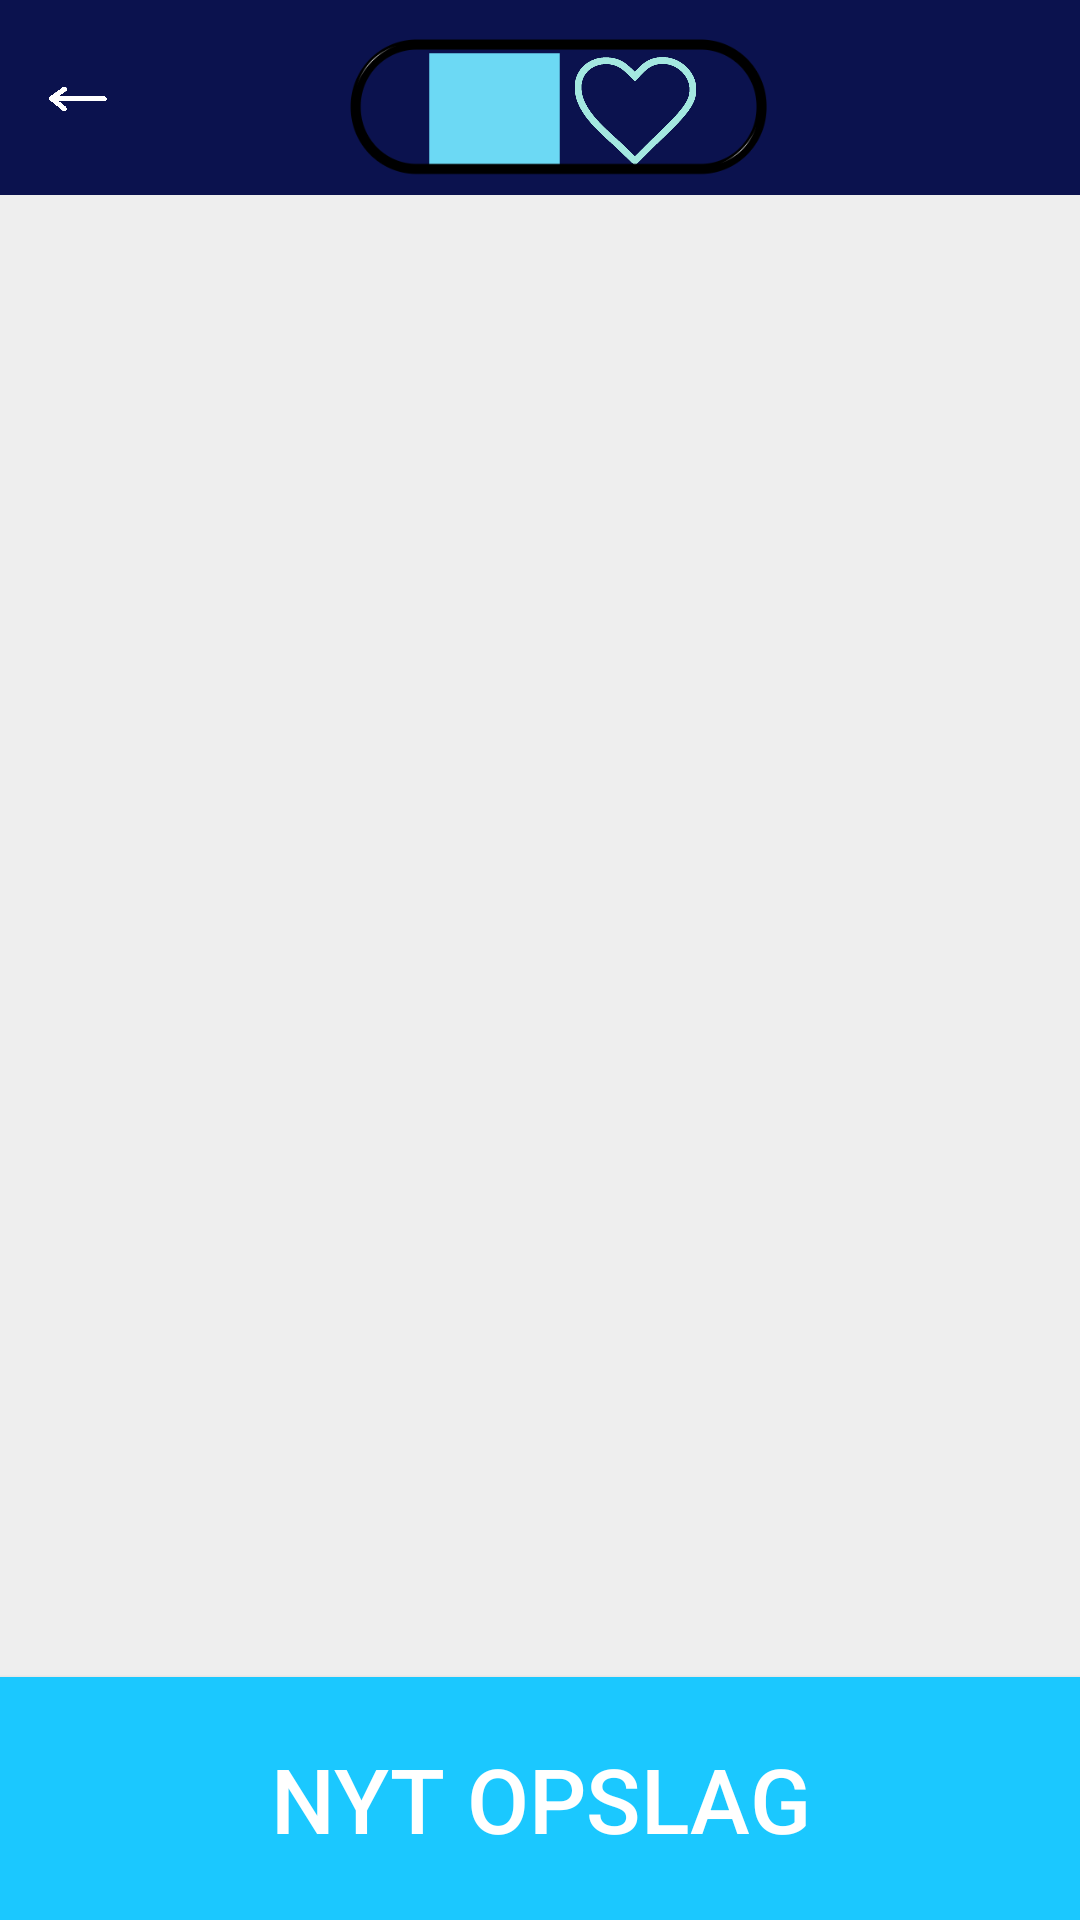

Point at icon controls on the screen. Image size 1080 x 1920, points as (x=x, y=y).
arrow: (x=78, y=99)
